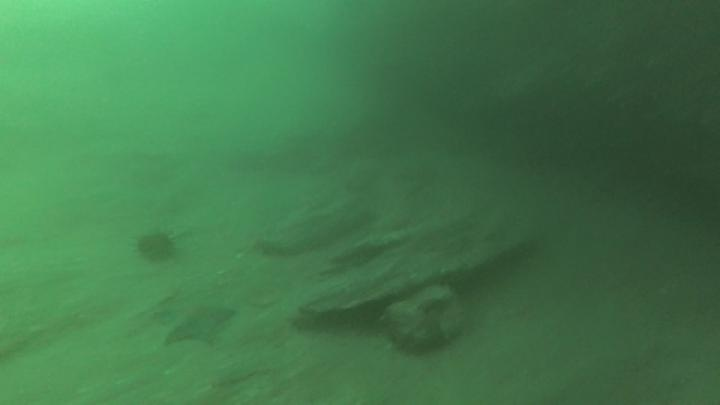echinus: (133, 227, 179, 266)
starfish: (153, 292, 240, 349)
